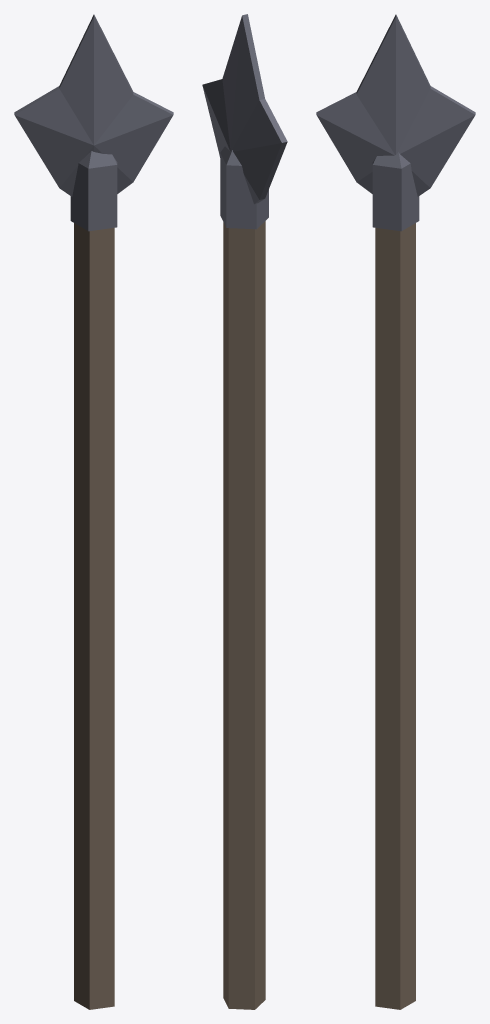
File: Archer_Tower_Lvl_1_Arrow.fbx
The picture shows the model from 3 angles, left to right: view 1: azimuth 90°, elevation 25°; view 2: azimuth 210°, elevation 25°; view 3: azimuth 270°, elevation 25°; orthographic projection.
Visible parts, largest first — view 1: archer_tower_LVL_1; view 2: archer_tower_LVL_1; view 3: archer_tower_LVL_1.
Boxes of the visible parts, left/top/right/bottom form: archer_tower_LVL_1: left=14, top=14, right=173, bottom=1009; archer_tower_LVL_1: left=202, top=14, right=287, bottom=1009; archer_tower_LVL_1: left=316, top=14, right=475, bottom=1009.
Bounding box in the file's own units: 13.5 × 300 × 43.81.
